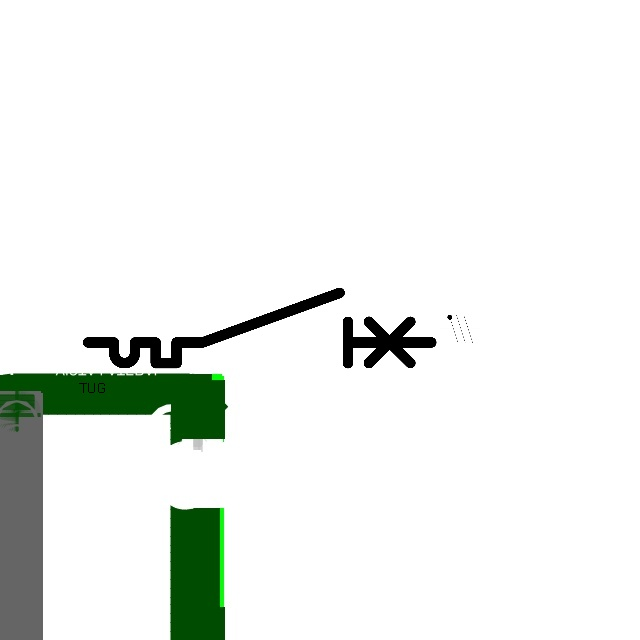interruptor_termomagnetico: (79, 284, 440, 372)
